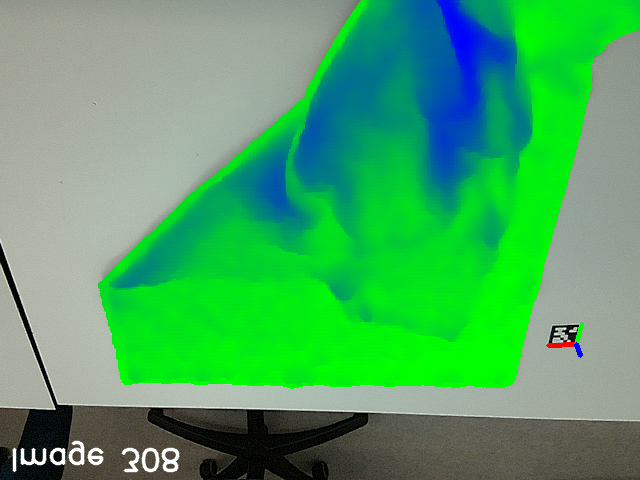V: (425, 313, 475, 353), (336, 298, 376, 335)
